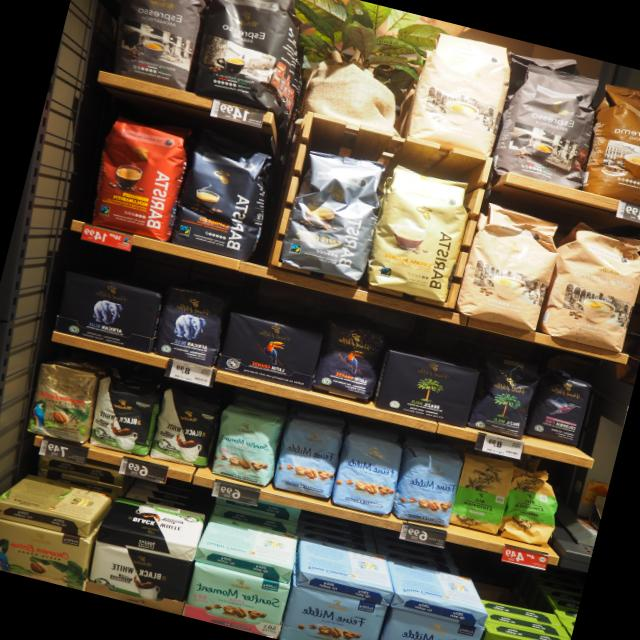AB Bohne: (151, 284, 229, 369)
AB Gemahlen: (54, 270, 166, 354)
Athiopien Bohne: (495, 461, 569, 550)
Athiopien Gemahlen: (442, 447, 518, 538)
BM Bohne: (467, 346, 544, 441)
BM Gemahlen: (372, 346, 482, 430)
BW Bohne: (148, 384, 226, 471), (87, 373, 164, 459)
BW Gemahlen: (85, 540, 191, 615), (97, 497, 207, 549)
Barista CB: (361, 161, 479, 304)
Barista CC: (276, 144, 392, 284)
Barista Espresso: (166, 134, 284, 266)
Barista Kolumbien: (79, 106, 198, 245)
C Fino Bohne: (524, 368, 595, 448)
CC Mild: (399, 25, 522, 159), (451, 200, 568, 335), (534, 216, 640, 354)
CC Vollmundig 36 Pads: (577, 80, 640, 206)
Colombia BB Bohne: (20, 353, 105, 448)
Colombia BB Gemahlen: (0, 517, 94, 591), (0, 475, 115, 526)
Empty Shelf: (479, 597, 562, 640)
Espresso Aromatisch: (488, 59, 604, 192), (96, 0, 221, 94)
Espresso Kraftig: (185, 0, 313, 116)
FM Bohne: (387, 438, 468, 532), (329, 428, 406, 518), (271, 414, 345, 502)
FM Gemahlen: (295, 535, 394, 598), (278, 584, 389, 640), (380, 606, 486, 640)
Herzhatfe Mundig: (468, 617, 570, 640)
LG Bohne: (310, 317, 391, 406)
LG Gemahlen: (216, 308, 325, 391)
SM Bohne: (204, 400, 290, 490)
SM Gemahlen: (182, 559, 293, 638), (195, 514, 300, 573)
